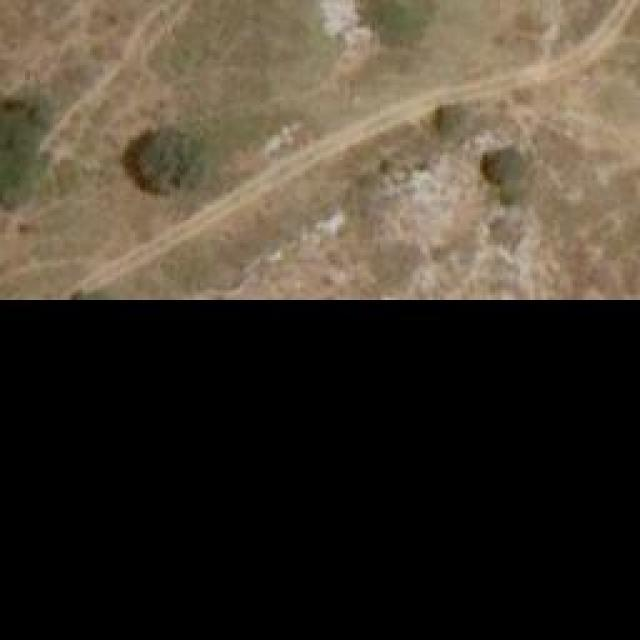Tree: (0, 87, 52, 214), (138, 127, 203, 195), (367, 0, 430, 52), (480, 145, 528, 190), (433, 100, 478, 143)
